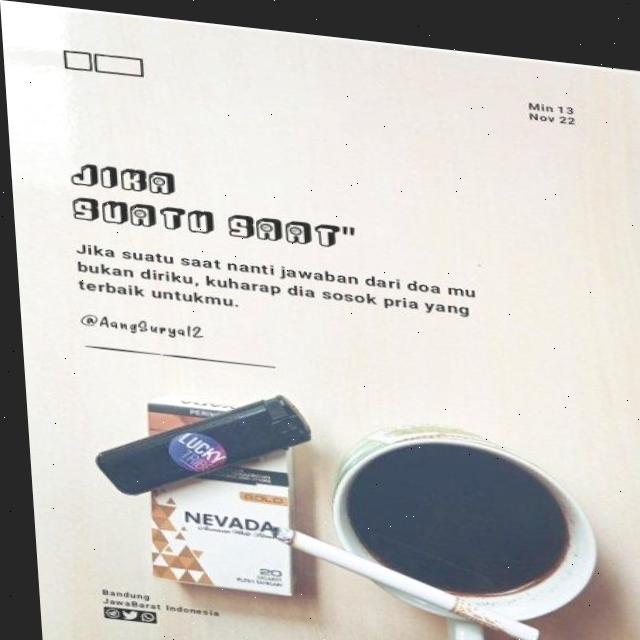cigarette: (267, 523, 531, 638)
